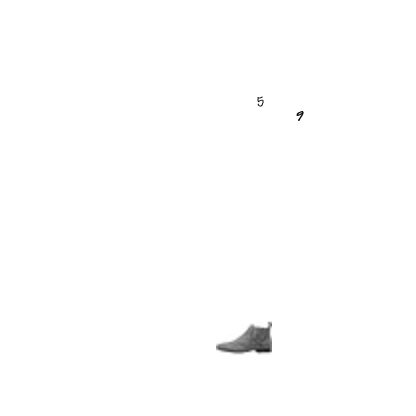5: (253, 94, 267, 108)
9: (293, 108, 307, 122)
Ankle_boot: (216, 310, 272, 366)
